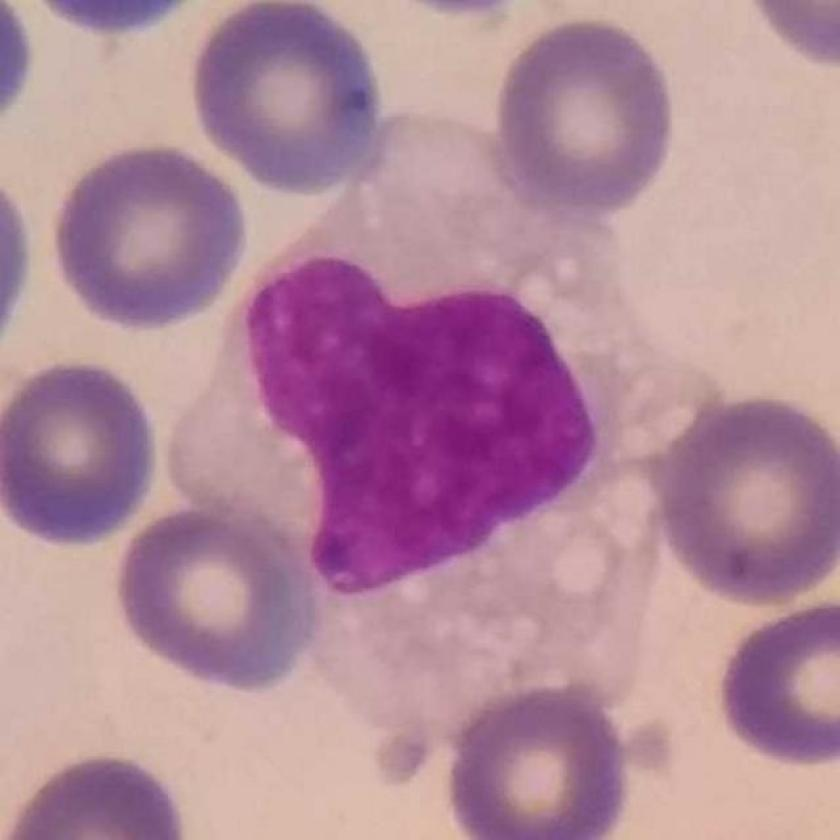monocyte: (174, 104, 718, 747)
